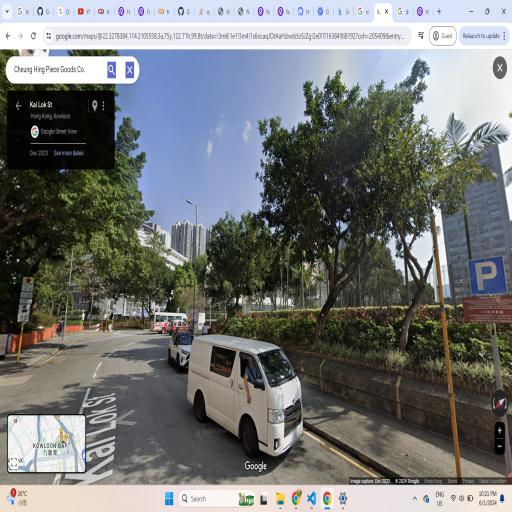Roads: (3, 317, 393, 479)
Trees: (258, 50, 492, 326), (197, 192, 290, 324)
